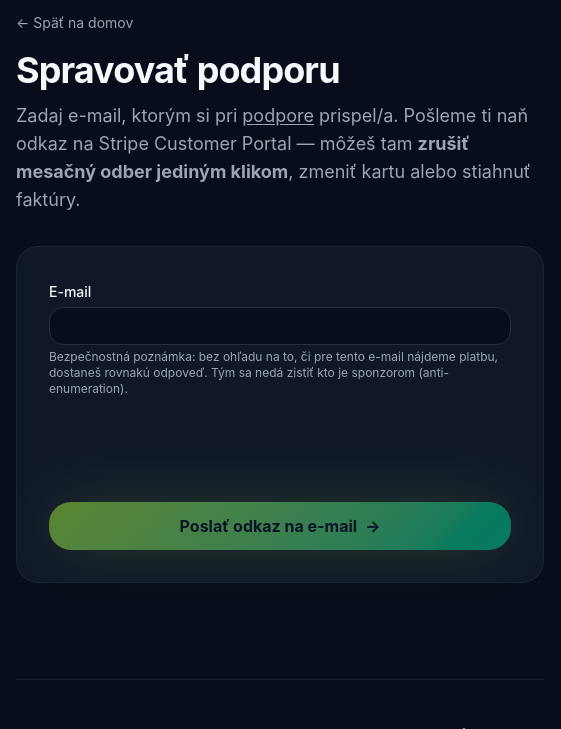
ManageSupportForm (/spravovat-podporu) › surfaces an error when the server returns a non-200 response
Type "x@y.test" into the field labelled "E-mail" at {"x": 280, "y": 326}, box x1=49 y1=307 x2=511 y2=345
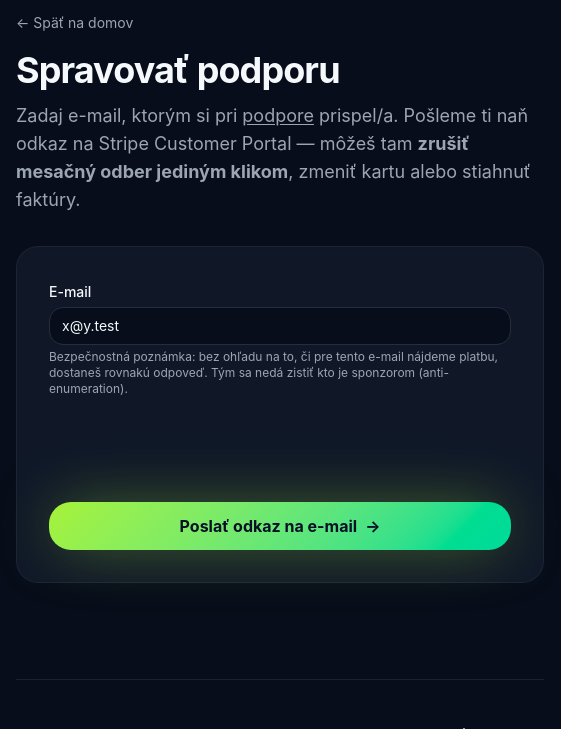
Click the button "Poslať odkaz na e-mail →" at {"x": 280, "y": 526}, box x1=49 y1=502 x2=511 y2=550
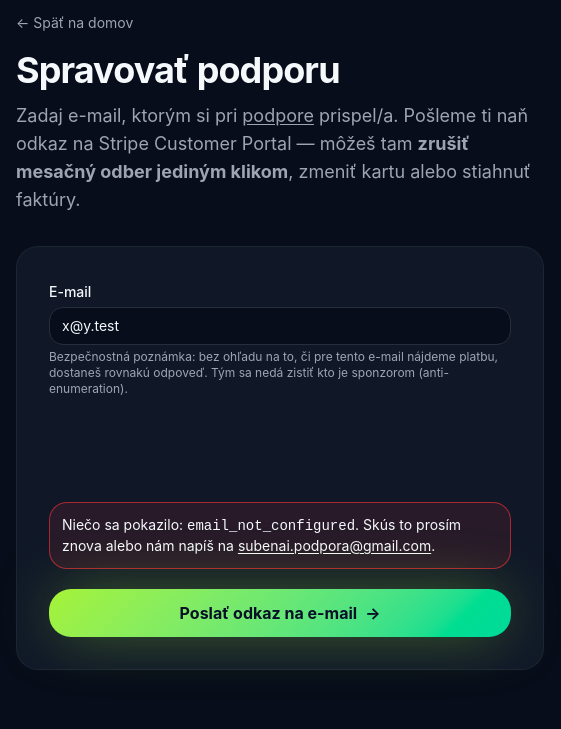
Check: the message is shown, box x1=49 y1=502 x2=511 y2=569
Check: the message shows "email_not_configured", box x1=187 y1=518 x2=355 y2=534
